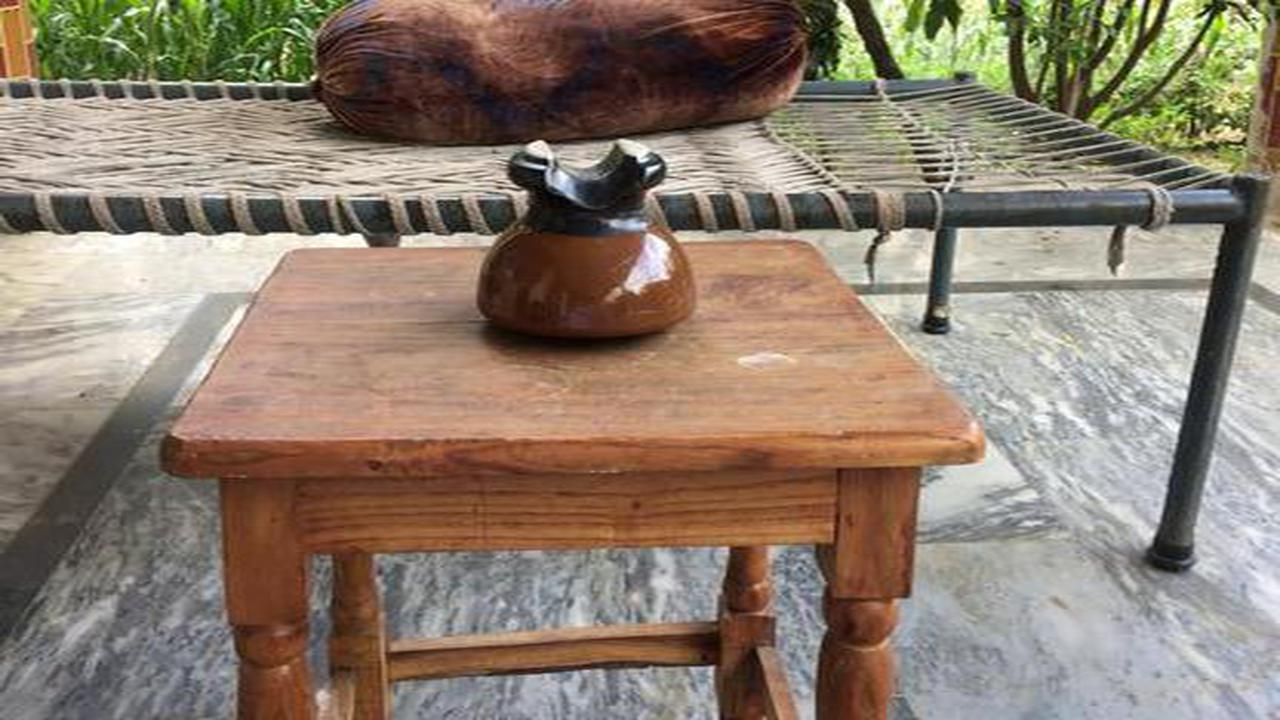insulator_pin: (462, 123, 711, 357)
